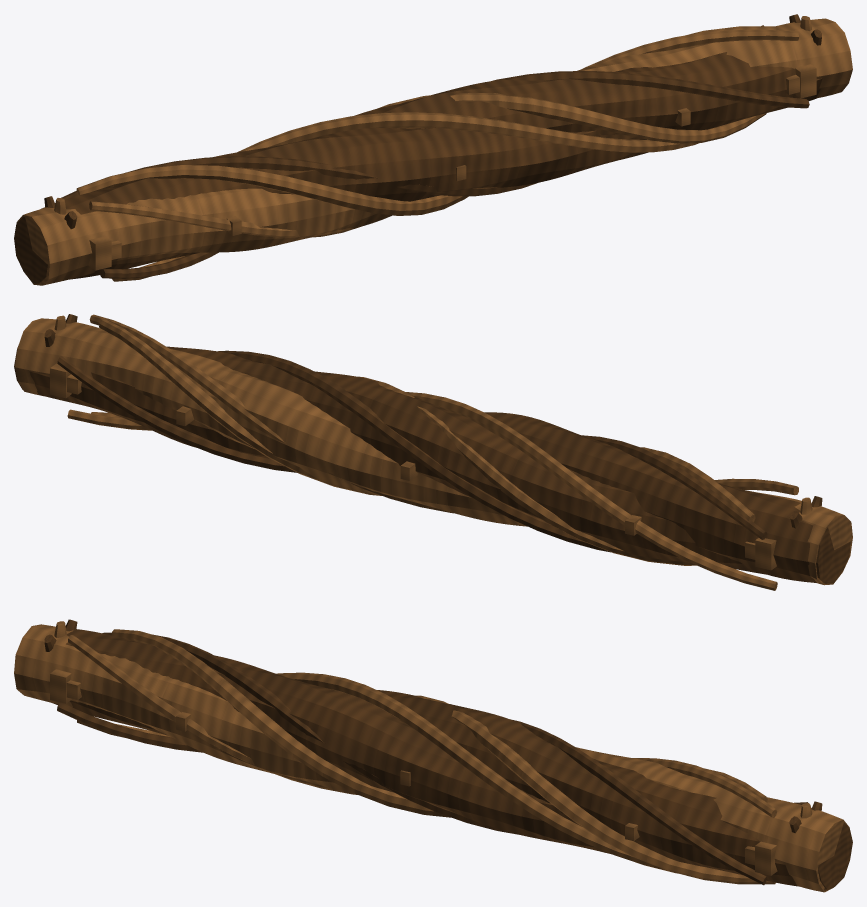
Rendered from rootforged-worldroot-beam-8m.glb.
3 renders of one model, top to bottom at view 1: azimuth 30°, elevation 25°; view 2: azimuth 150°, elevation 25°; view 3: azimuth 330°, elevation 25°, orthographic.
Parts seen in each view (by area): view 1: braided-root-1, braided-root-0, braided-root-2, bark-ridge-3, surface-root-vein-0, surface-root-vein-1, bark-ridge-2, bark-ridge-1, bark-ridge-0, end-key-block-0, end-key-block-1; view 2: braided-root-1, braided-root-2, braided-root-0, bark-ridge-3, bark-ridge-0, bark-ridge-2, surface-root-vein-0, bark-ridge-1, surface-root-vein-1, end-key-block-0, end-key-block-1; view 3: braided-root-1, braided-root-0, braided-root-2, surface-root-vein-0, bark-ridge-3, surface-root-vein-1, bark-ridge-2, bark-ridge-1, bark-ridge-0, end-key-block-1, end-key-block-0.
Boxes of the visible parts, x1=… form: braided-root-1: x1=16, y1=18, x2=852, y2=285; braided-root-0: x1=14, y1=127, x2=648, y2=283; braided-root-2: x1=23, y1=52, x2=822, y2=282; bark-ridge-3: x1=237, y1=112, x2=699, y2=152; surface-root-vein-0: x1=76, y1=26, x2=776, y2=215; surface-root-vein-1: x1=112, y1=93, x2=766, y2=281; bark-ridge-2: x1=100, y1=71, x2=809, y2=278; bark-ridge-1: x1=89, y1=29, x2=798, y2=238; bark-ridge-0: x1=61, y1=25, x2=763, y2=199; end-key-block-0: x1=88, y1=236, x2=111, y2=270; end-key-block-1: x1=795, y1=64, x2=816, y2=98; braided-root-1: x1=15, y1=318, x2=852, y2=585; braided-root-2: x1=166, y1=346, x2=850, y2=581; braided-root-0: x1=14, y1=346, x2=834, y2=583; bark-ridge-3: x1=67, y1=392, x2=777, y2=590; bark-ridge-0: x1=57, y1=356, x2=766, y2=539; bark-ridge-2: x1=218, y1=350, x2=610, y2=552; surface-root-vein-0: x1=99, y1=318, x2=755, y2=522; bark-ridge-1: x1=89, y1=314, x2=798, y2=513; surface-root-vein-1: x1=91, y1=376, x2=696, y2=565; end-key-block-0: x1=755, y1=538, x2=776, y2=570; end-key-block-1: x1=50, y1=363, x2=71, y2=398; braided-root-1: x1=14, y1=624, x2=849, y2=892; braided-root-0: x1=66, y1=629, x2=852, y2=890; braided-root-2: x1=52, y1=690, x2=840, y2=889; surface-root-vein-0: x1=111, y1=629, x2=767, y2=817; bark-ridge-3: x1=276, y1=672, x2=677, y2=873; surface-root-vein-1: x1=77, y1=695, x2=775, y2=884; bark-ridge-2: x1=57, y1=702, x2=766, y2=885; bark-ridge-1: x1=68, y1=635, x2=777, y2=817; bark-ridge-0: x1=102, y1=632, x2=807, y2=834; end-key-block-1: x1=755, y1=841, x2=777, y2=875; end-key-block-0: x1=50, y1=669, x2=71, y2=703.
Bounding box in the file's own units: 8 × 1 × 1.
Materials: 2 (2 with a texture image).
